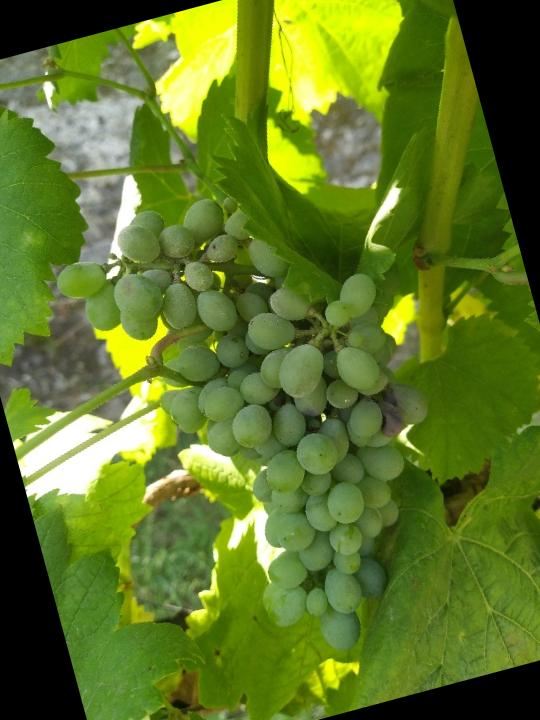grape: (39, 149, 497, 711)
